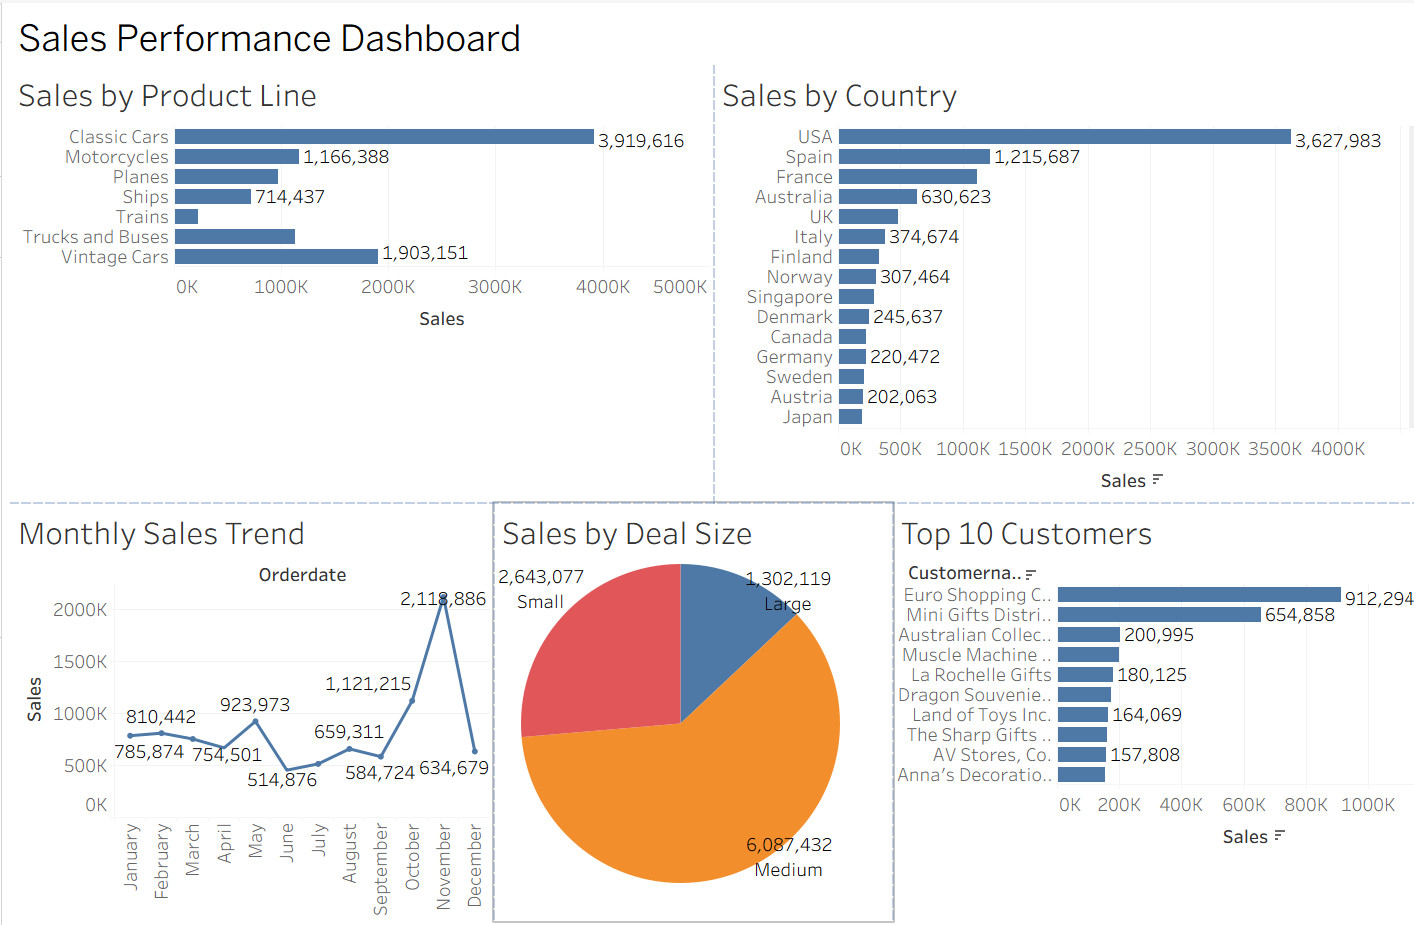

This screenshot's page, from the dashboard's own definition file:
{"tool":"tableau","page":{"name":"Sales Dashboard","canvas":[1000,1000],"units":"permille","ordinal":0},"visuals":[{"type":"title","box":[5,8.6,990,58.3]},{"type":"worksheet","title":"Sales by Product Line","mark":"Automatic","rows":["PRODUCTLINE"],"cols":["SALES"],"box":[5,67,438.9,473]},{"type":"worksheet","title":"Sales by Country","mark":"Automatic","rows":["COUNTRY"],"cols":["SALES"],"box":[443.9,67,451.4,473]},{"type":"legend","title":"Sales by Deal Size","param":"[federated.1v8tmgn02ljcit1c07b3q00ahp95].[none:DEALSIZE:nk]","box":[895.3,67,99.8,117.7]},{"type":"worksheet","title":"Monthly Sales Trend","mark":"Automatic","rows":["SALES"],"cols":["ORDERDATE"],"box":[5,540,301.7,451.4]},{"type":"worksheet","title":"Sales by Deal Size","mark":"Pie","box":[306.7,540,248.8,451.4]},{"type":"worksheet","title":"Top 10 Customers","mark":"Automatic","rows":["CUSTOMERNAME"],"cols":["SALES"],"box":[555.5,540,339.8,451.4]}]}

Visuals, with their boxes on the dashboard's canvas, which has no fixed pixel size, in thousandths of its width and height (x1, y1, x2, y2). These are canvas units, not pixel positions in the 1414x925 screenshot, which may show the page scaled, cropped or inside an application window:
title: [left=5, top=9, right=995, bottom=67]
"Sales by Product Line" worksheet: [left=5, top=67, right=444, bottom=540]
"Sales by Country" worksheet: [left=444, top=67, right=895, bottom=540]
"Sales by Deal Size" legend: [left=895, top=67, right=995, bottom=185]
"Monthly Sales Trend" worksheet: [left=5, top=540, right=307, bottom=991]
"Sales by Deal Size" worksheet (Pie marks): [left=307, top=540, right=556, bottom=991]
"Top 10 Customers" worksheet: [left=556, top=540, right=895, bottom=991]
